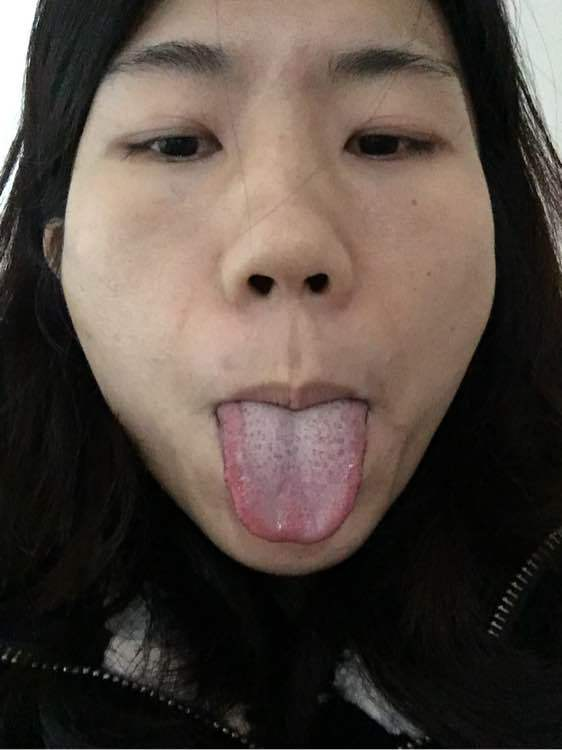baitaishe: (217, 399, 367, 545)
hongdianshe: (241, 410, 346, 469)
